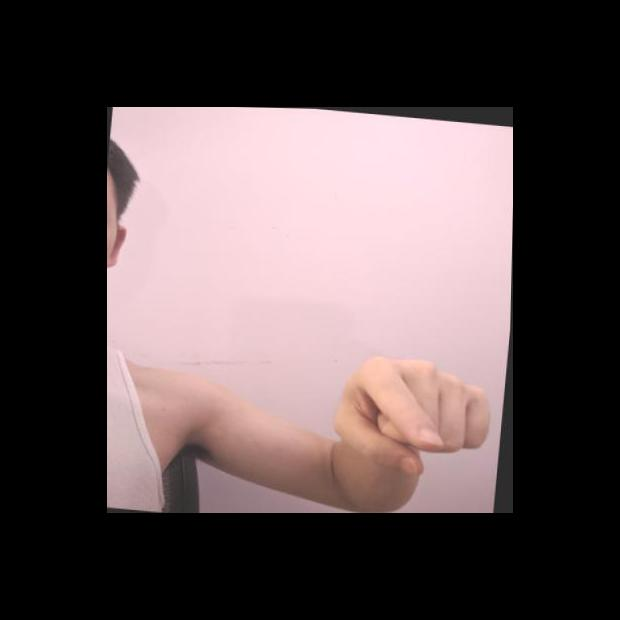Y: (327, 345, 502, 484)
